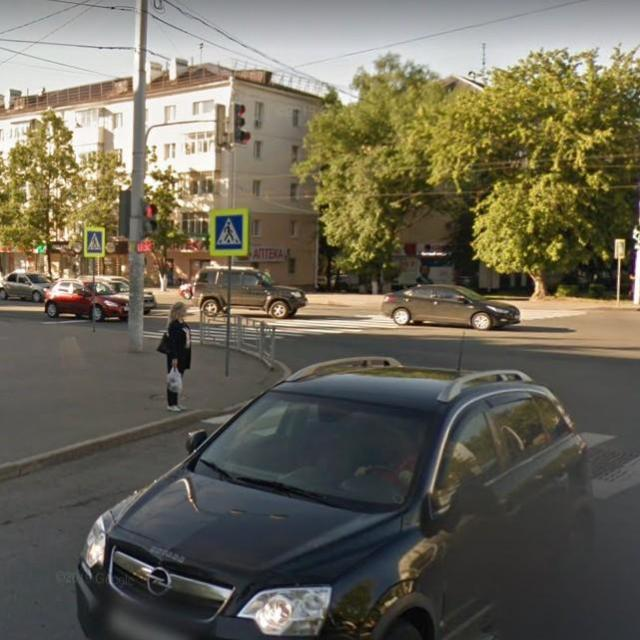Przejscie dla pieszych: (203, 202, 256, 260), (80, 222, 109, 261)
